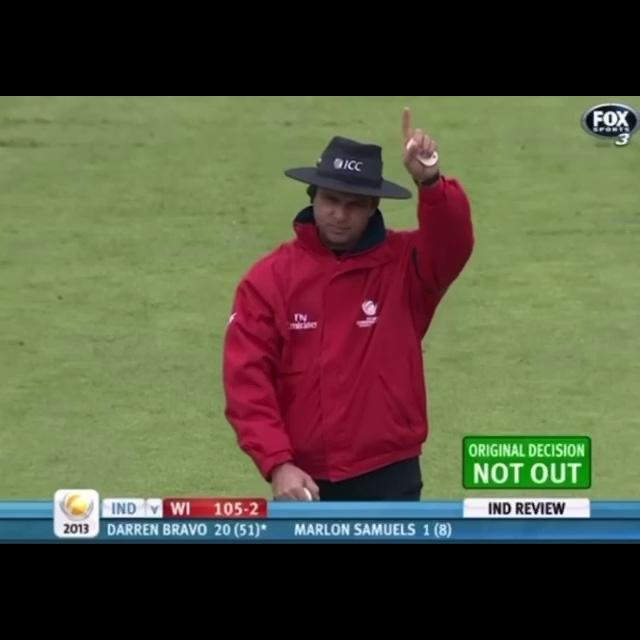umpire: (196, 102, 503, 500)
